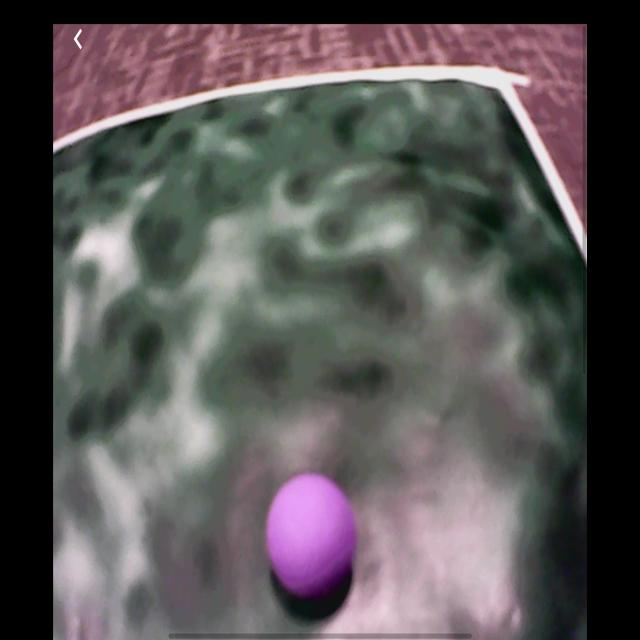ball: (264, 471, 357, 602)
